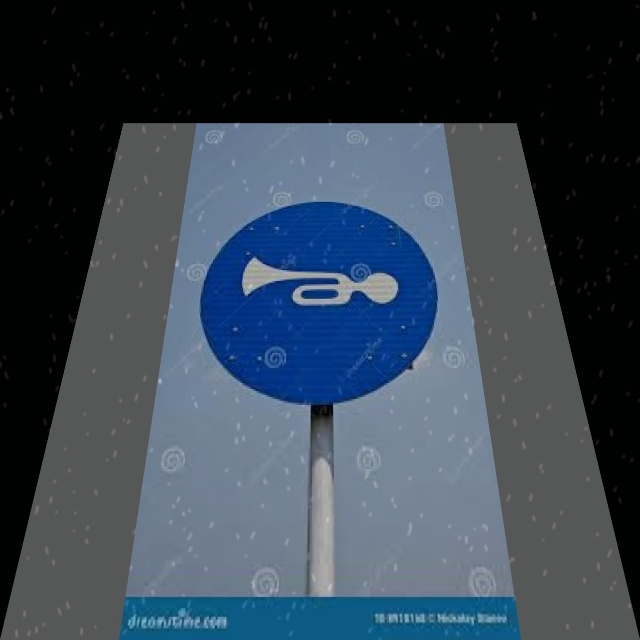Compulsory_Sound_Horn: (189, 199, 450, 398)
